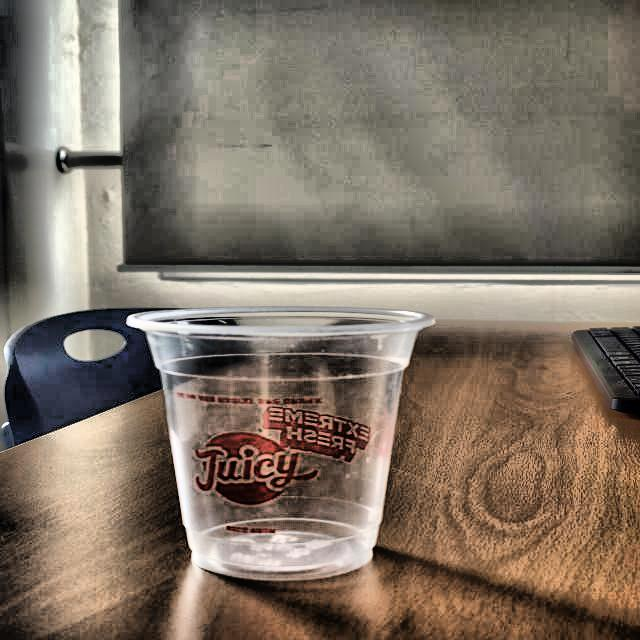plastic cup: (122, 304, 434, 582)
